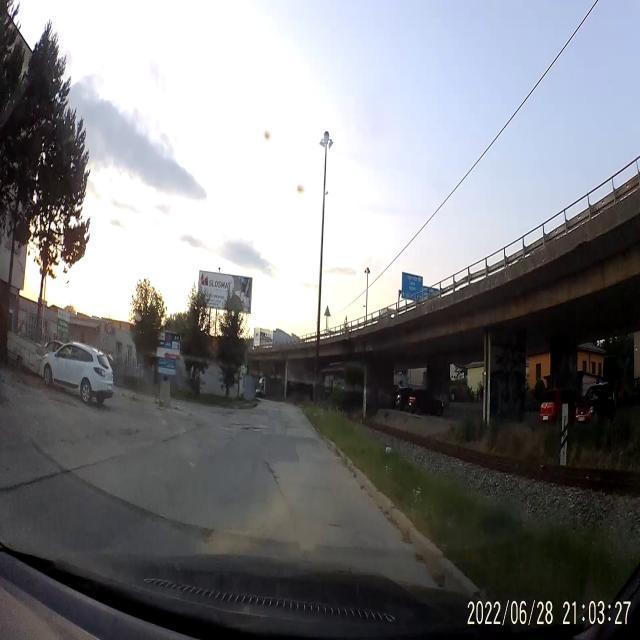Pothole: (262, 458, 280, 491), (239, 421, 264, 434), (326, 516, 339, 530)
